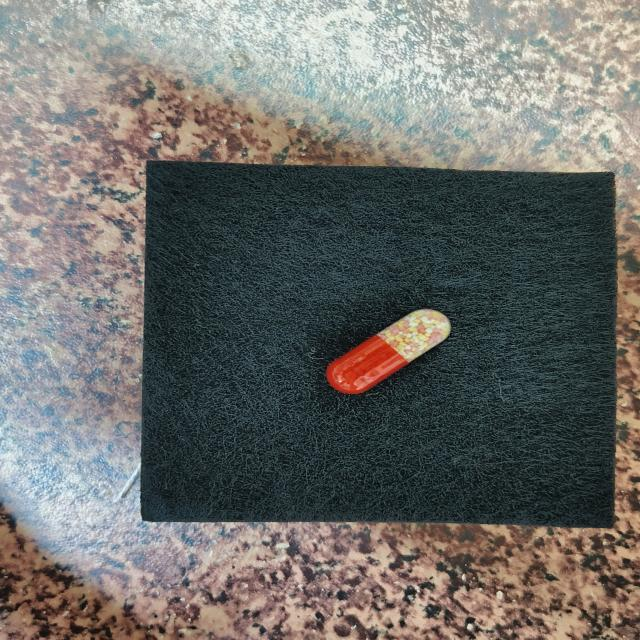Intact Capsule: (326, 309, 451, 394)
